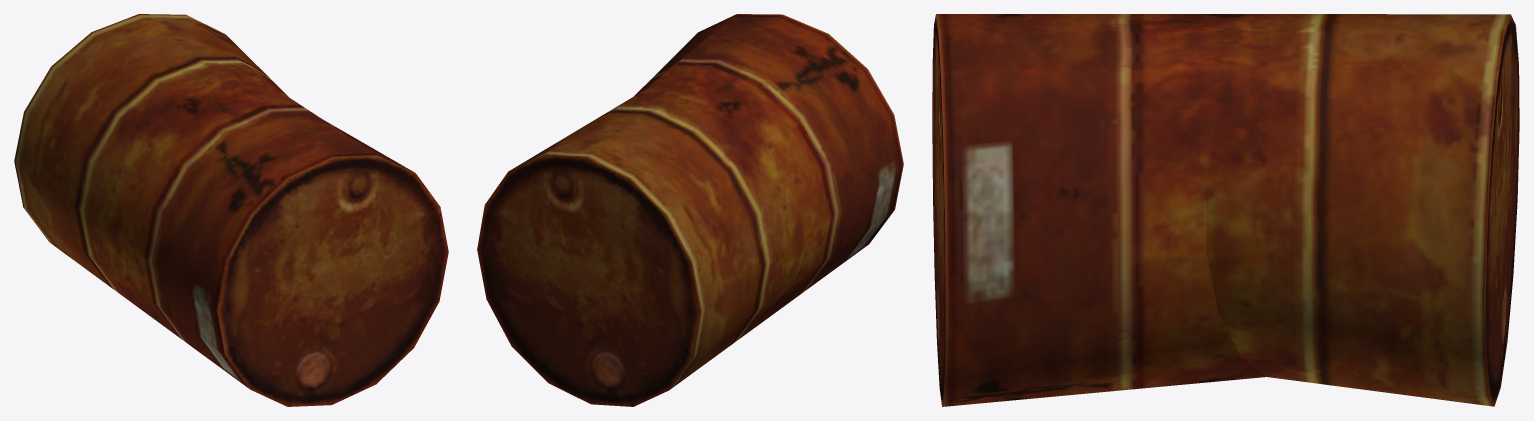
Rendered from od_single_on_side_dented_red.fbx.
3 renders of one model, left to right at view 1: azimuth 30°, elevation 25°; view 2: azimuth 150°, elevation 25°; view 3: azimuth 270°, elevation 25°, orthographic. The views are drawn at different scales.
Visible parts, largest first — view 1: mesh_0; view 2: mesh_0; view 3: mesh_0.
Part boxes in pixels (left/top/right/bottom): mesh_0: left=14, top=14, right=448, bottom=406; mesh_0: left=477, top=14, right=903, bottom=406; mesh_0: left=932, top=14, right=1519, bottom=406.
Bounding box in the file's own units: 59.65 × 59.69 × 89.07.
1 material, 1 textured.
